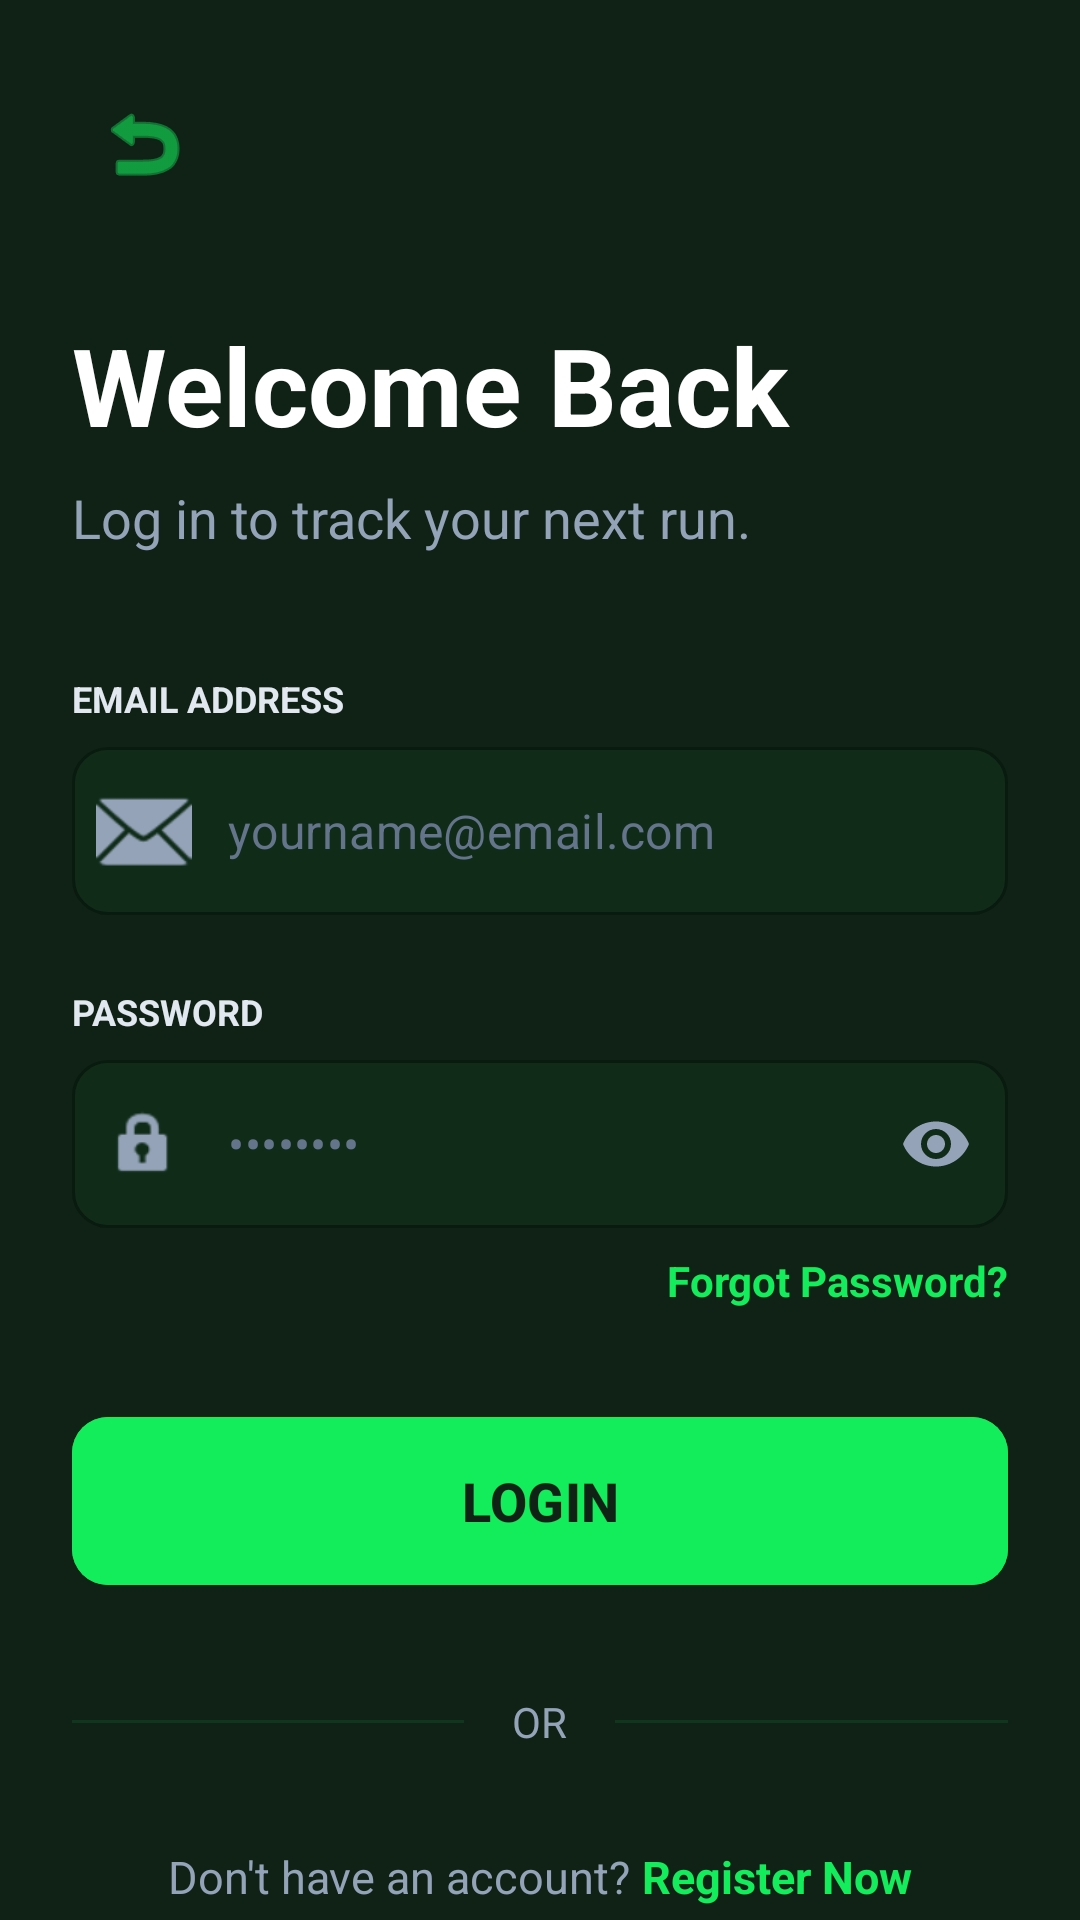

Screen size 1080 × 1920. Icon name, then its center in pixels as (x=x, y=y):
revert: (x=145, y=144)
